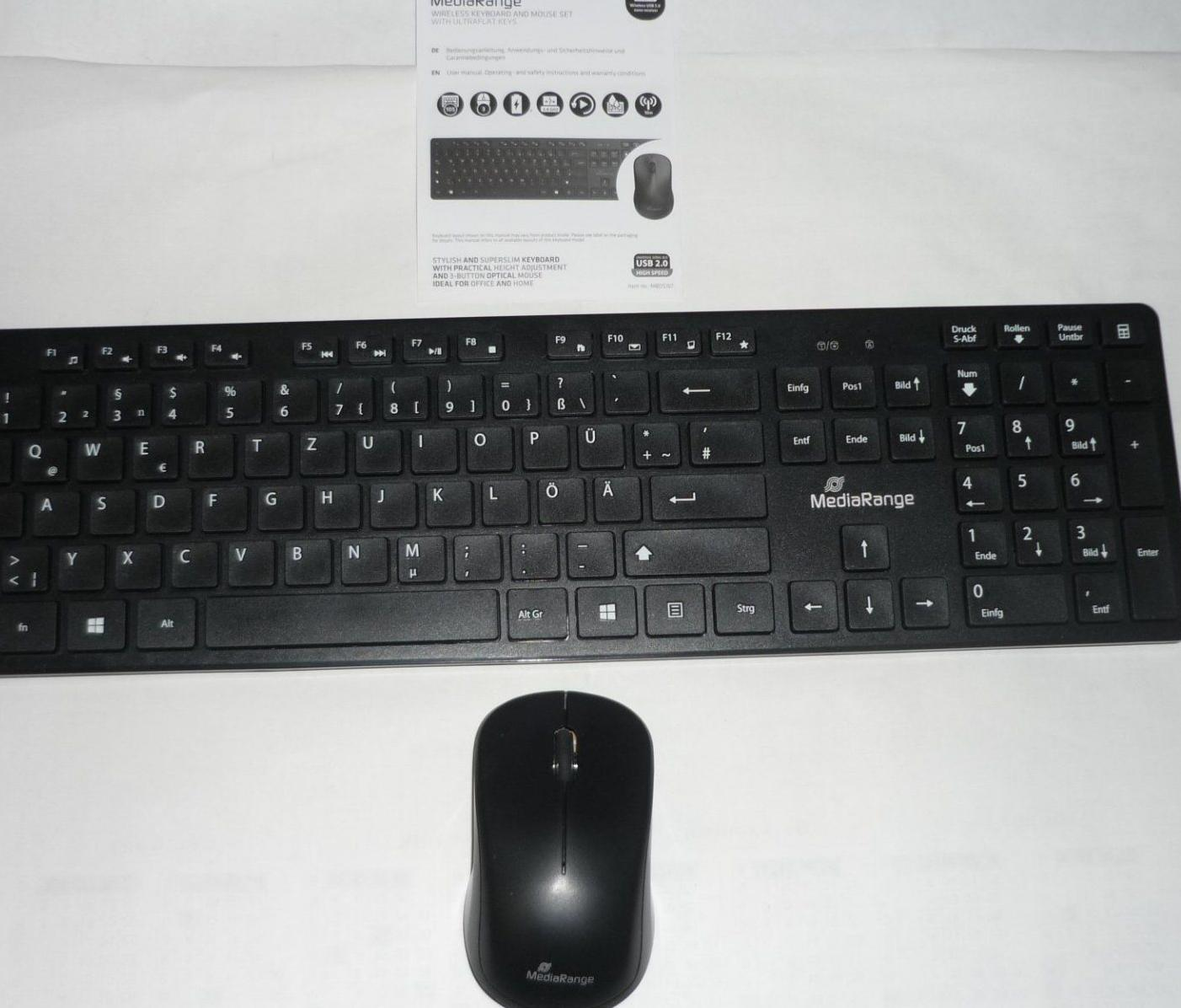0: (488, 367, 537, 416)
1: (1, 383, 40, 430)
2: (45, 378, 94, 426)
3: (99, 376, 148, 426)
4: (154, 375, 203, 423)
5: (209, 374, 259, 421)
6: (267, 374, 317, 421)
7: (323, 371, 371, 421)
8: (378, 370, 425, 419)
9: (433, 368, 481, 417)
a: (27, 486, 77, 534)
accent: (600, 364, 648, 413)
ae: (590, 472, 640, 521)
alt-left: (131, 593, 195, 649)
altgr-right: (502, 583, 568, 639)
b: (279, 533, 330, 584)
c: (166, 538, 216, 587)
caret: (1, 384, 26, 429)
comma: (449, 529, 500, 580)
d: (140, 483, 190, 532)
del: (655, 363, 757, 410)
e: (126, 429, 175, 478)
enter: (646, 469, 766, 518)
f: (196, 482, 246, 531)
g: (252, 480, 302, 528)
h: (309, 480, 359, 528)
hash: (686, 417, 763, 464)
i: (407, 424, 457, 472)
j: (366, 478, 415, 528)
k: (421, 476, 472, 526)
keyboard: (1, 299, 1181, 678)
l: (478, 475, 527, 524)
less: (1, 539, 45, 592)
m: (393, 531, 444, 582)
minus: (561, 527, 612, 576)
n: (336, 533, 387, 583)
o: (462, 421, 511, 471)
oe: (533, 473, 584, 523)
p: (517, 420, 568, 469)
plus: (629, 417, 678, 465)
point: (505, 528, 557, 577)
q: (13, 432, 64, 480)
r: (181, 426, 232, 478)
s: (85, 486, 133, 533)
shift-left: (1, 541, 34, 593)
shift-lock: (1, 488, 47, 538)
shift-right: (620, 523, 769, 572)
space: (201, 586, 497, 645)
ss: (543, 367, 592, 414)
strg-left: (1, 599, 36, 655)
strg-right: (709, 577, 774, 633)
t: (240, 427, 288, 476)
tab: (1, 436, 39, 484)
u: (350, 424, 400, 474)
ue: (574, 419, 623, 469)
v: (222, 536, 273, 585)
w: (69, 429, 121, 480)
x: (110, 539, 160, 588)
y: (52, 541, 103, 589)
z: (296, 426, 345, 475)
